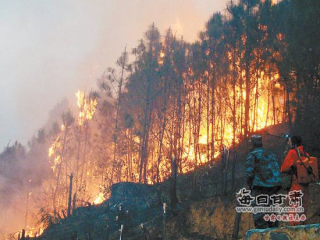fire: (39, 130, 75, 173), (158, 17, 186, 70), (67, 90, 104, 128), (83, 186, 107, 207)
